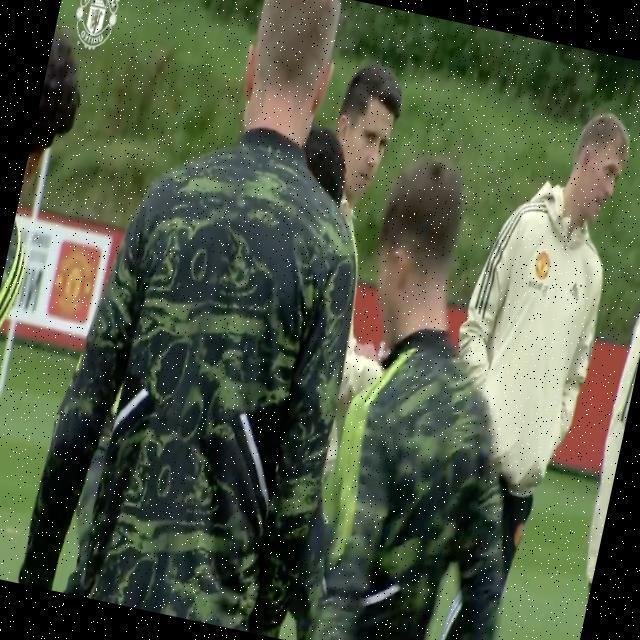Adidas: (566, 279, 583, 303)
